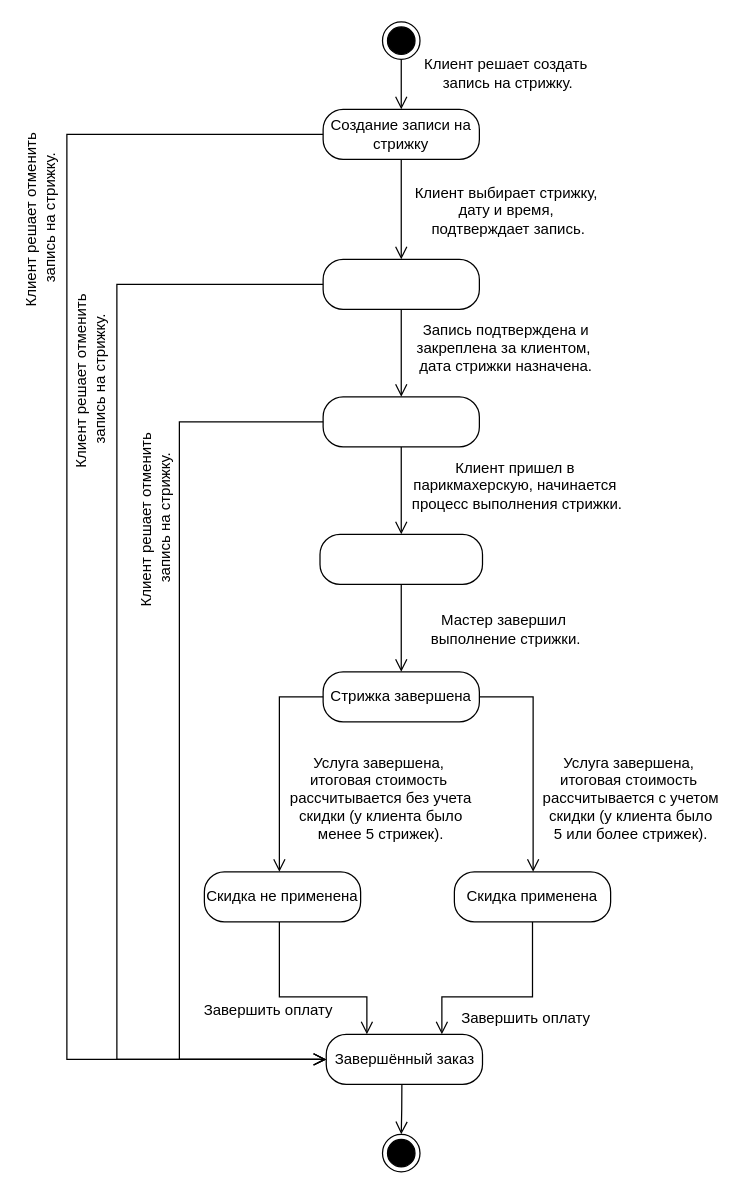
Some shapes in this 739 by 1194 pixel diagram are drawn without their labels. Each missing label, with the centre of its shape:
Записан на стрижку: the point at 400,421
Запись подтверждена: the point at 400,283
Стрижка в процессе: the point at 400,558
